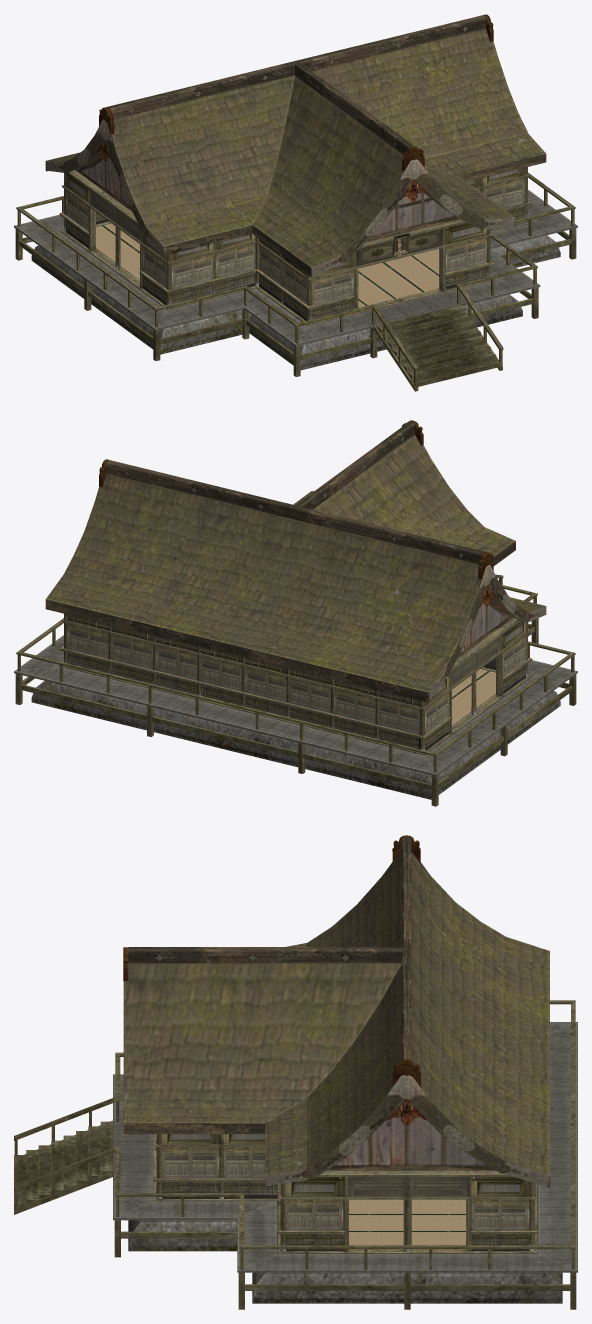
Rendered from temple.glb.
3 views of the same model, one above another, from view 1: azimuth 30°, elevation 25°; view 2: azimuth 150°, elevation 25°; view 3: azimuth 270°, elevation 25° (orthographic). The views are drawn at different scales.
Parts seen in each view (by area): view 1: Object_0, Object_1; view 2: Object_0, Object_1; view 3: Object_0, Object_1.
Part boxes in pixels (bbox=[...]): Object_0: bbox=[15, 14, 576, 391]; Object_1: bbox=[14, 168, 577, 370]; Object_0: bbox=[15, 420, 576, 806]; Object_1: bbox=[14, 614, 577, 799]; Object_0: bbox=[14, 835, 576, 1309]; Object_1: bbox=[113, 1022, 577, 1303].
Size of the model in its own units: 20 by 9.04 by 19.16.
2 materials, 2 textured.
